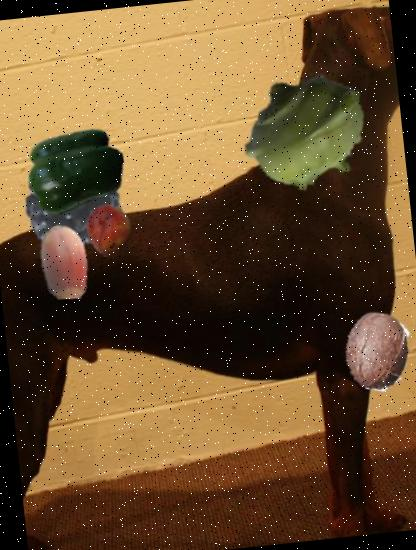Cocos: (336, 307, 416, 395)
Hazelnut: (22, 219, 106, 303)
Kohlrabi: (235, 59, 381, 204)
Mulberry: (14, 145, 138, 268)
Peach: (80, 202, 138, 260)
Pepper: (22, 118, 131, 226)
